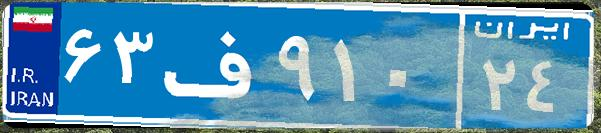0: (385, 28, 445, 110)
1: (330, 28, 385, 110)
2: (475, 38, 525, 113)
3: (110, 28, 158, 105)
4: (525, 38, 570, 115)
6: (57, 26, 110, 107)
9: (273, 28, 330, 110)
ف: (158, 15, 273, 115)
